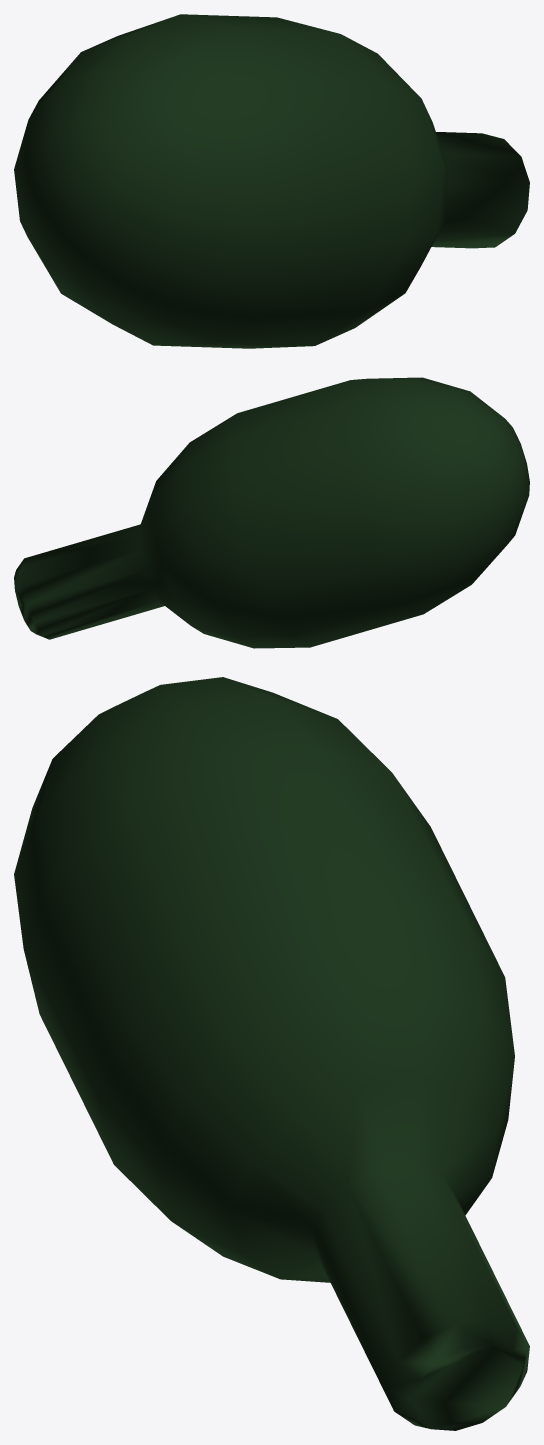
The model's file is WeaponLiquid.glb.
The picture shows the model from 3 angles, top to bottom: view 1: azimuth 30°, elevation 25°; view 2: azimuth 150°, elevation 25°; view 3: azimuth 270°, elevation 25°; orthographic projection. The views are drawn at different scales.
Visible parts, largest first — view 1: Liquid; view 2: Liquid; view 3: Liquid.
Part boxes in pixels (bbox=[...]): Liquid: bbox=[14, 14, 529, 348]; Liquid: bbox=[14, 377, 529, 648]; Liquid: bbox=[14, 677, 529, 1430].
Bounding box in the file's own units: 0.2978 × 0.1795 × 0.1758.
1 material, 1 textured.
